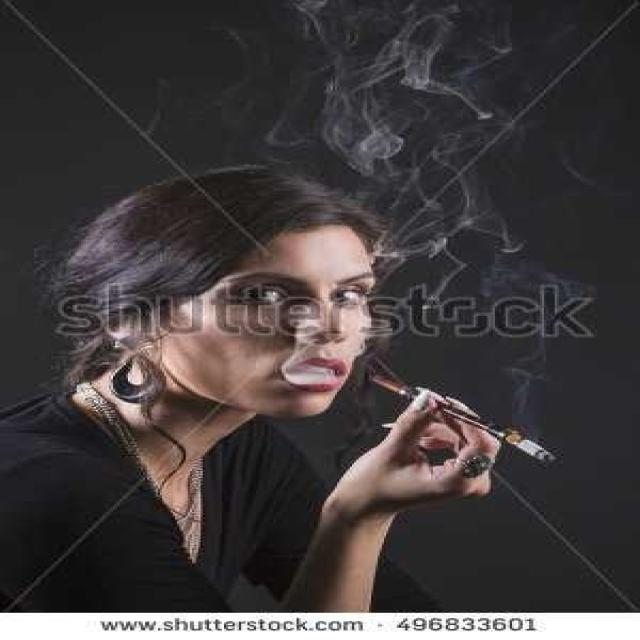Smooking: (351, 360, 570, 494)
